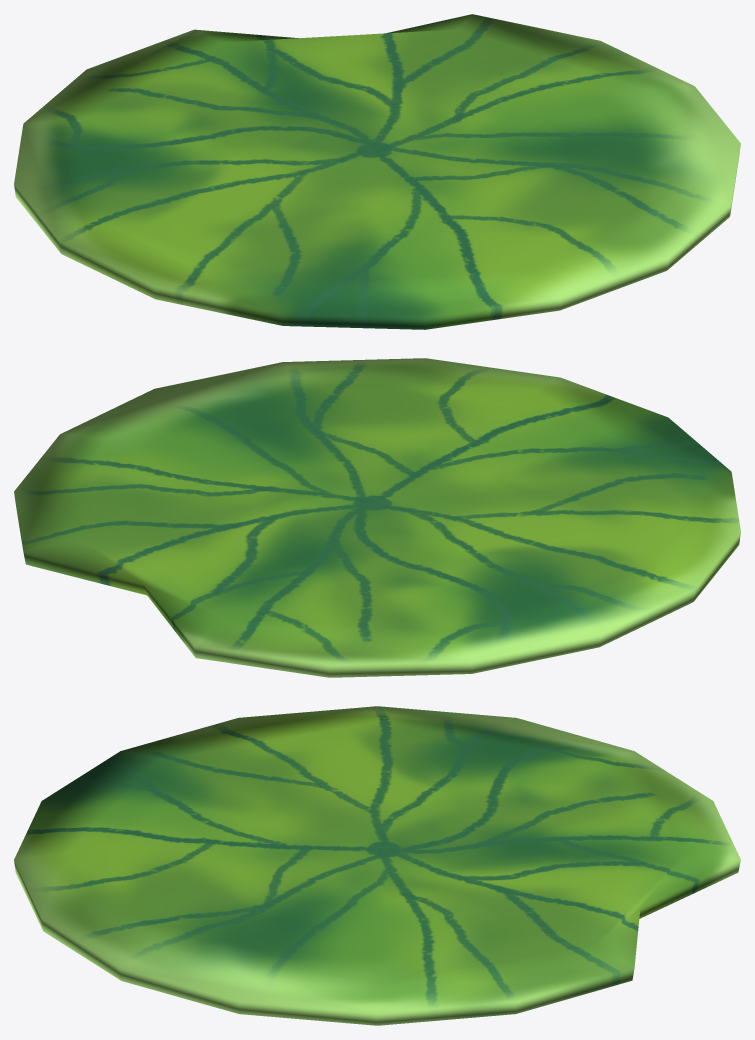
File: LaSung.fbx
The picture shows the model from 3 angles, top to bottom: view 1: azimuth 30°, elevation 25°; view 2: azimuth 150°, elevation 25°; view 3: azimuth 270°, elevation 25°; orthographic projection.
Visible parts, largest first — view 1: LaSung; view 2: LaSung; view 3: LaSung.
Part boxes in pixels (x1,y1,x2,y2): LaSung: (14,14,740,329); LaSung: (14,358,740,677); LaSung: (14,706,740,1025).
Size of the model in its own units: 4.51 by 4.51 by 0.1631.
1 material, 1 textured.
